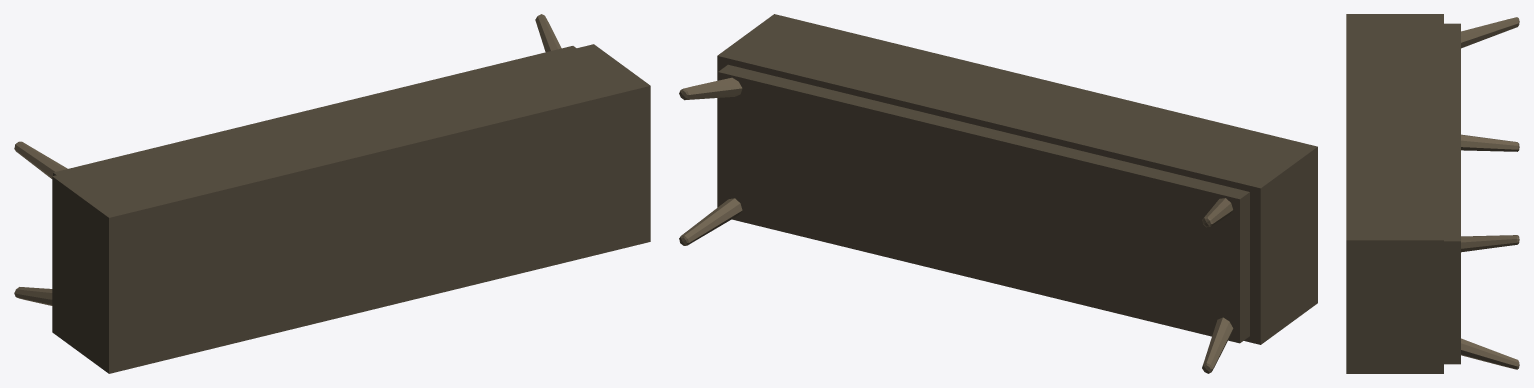
File: dresser-2.obj
3 renders of one model, left to right at view 1: azimuth 30°, elevation 25°; view 2: azimuth 150°, elevation 25°; view 3: azimuth 270°, elevation 25°, orthographic. The views are drawn at different scales.
Visible parts, largest first — view 1: dresser-2; view 2: dresser-2; view 3: dresser-2.
Part boxes in pixels (x1,y1,x2,y2): dresser-2: (14,14,650,373); dresser-2: (679,14,1317,373); dresser-2: (1346,14,1519,373).
Size of the model in its own units: 98.95 by 27.43 by 32.
